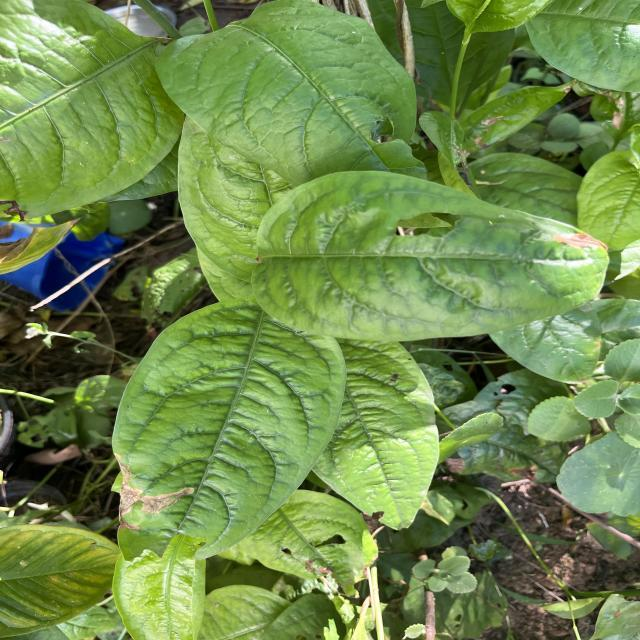Plumbago indica: (246, 163, 614, 350), (108, 304, 350, 560), (155, 0, 422, 178), (316, 337, 448, 535)
